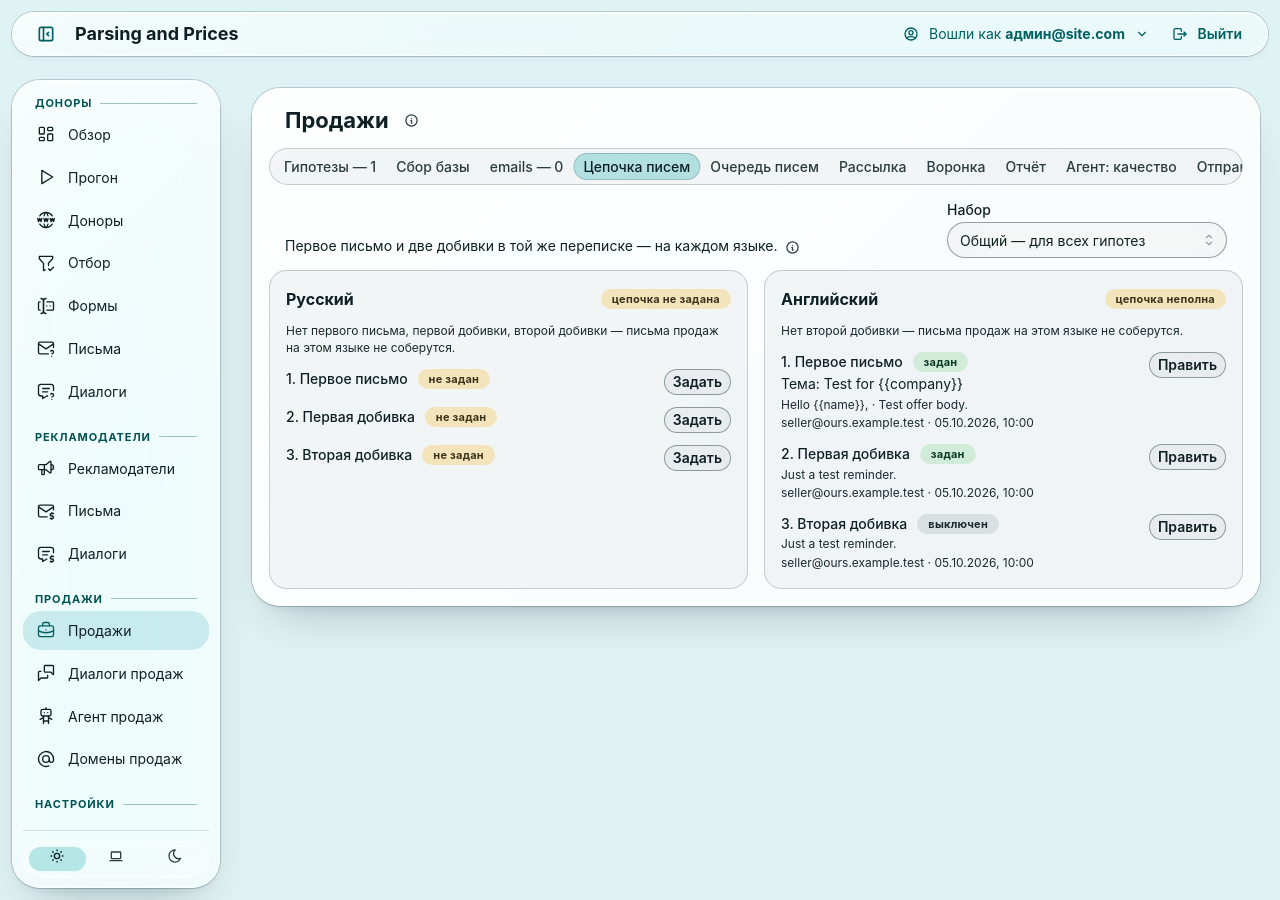
Scenario: цепочка писем: окно шага › у первого письма подсказка о запасном тексте имени — тоже
The image size is (1280, 900).
Expected: the heading "Английский" is shown, [781,287,878,311]
Click the button "Править" in the row of "Test for {{company}}": coordinates (1187, 365) [1149,352,1226,378]
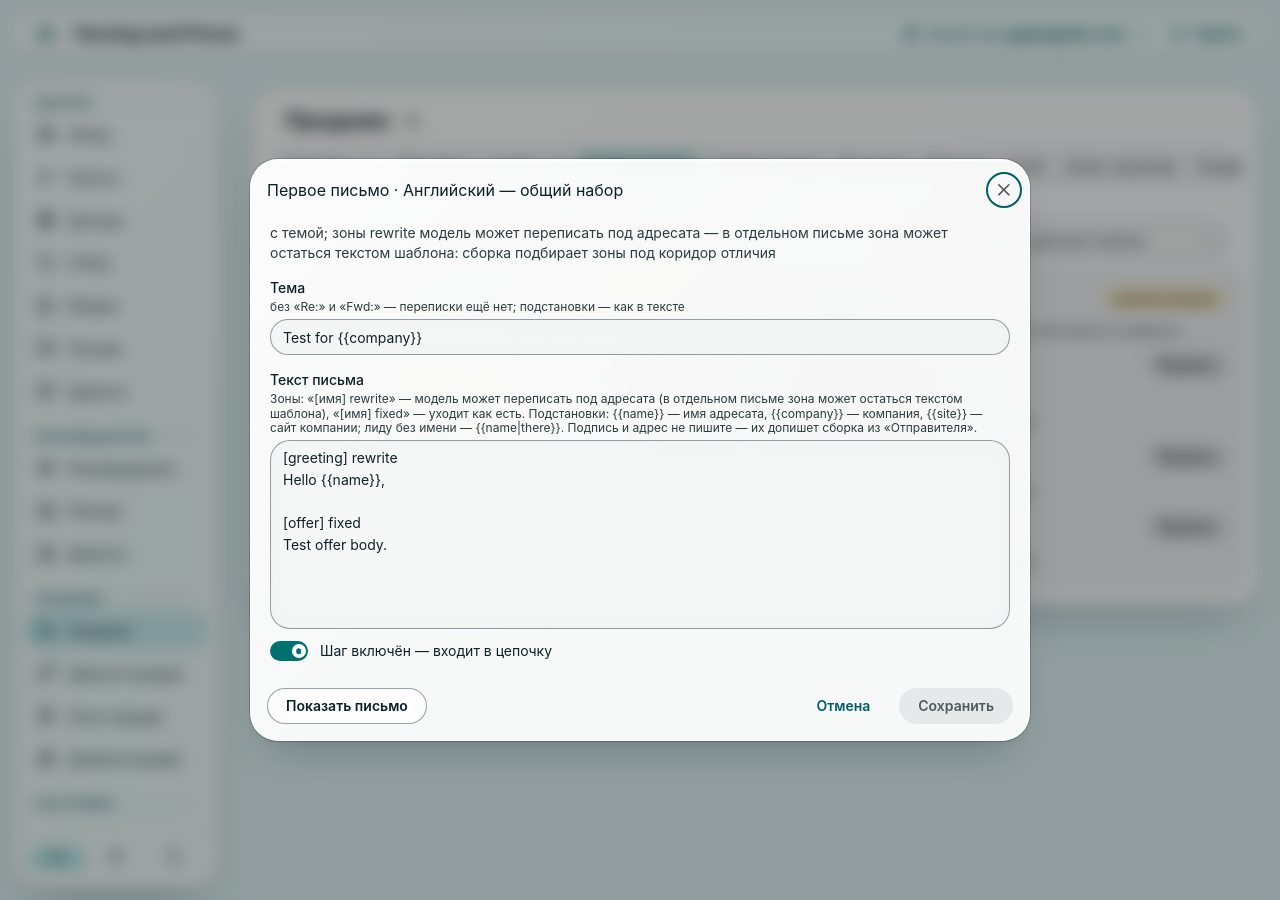
Result: the text "Зоны: «[имя] rewrite» — модель может переписать под адресата" shows "лиду без имени — {{name|there}}" at [270,391,982,435]
